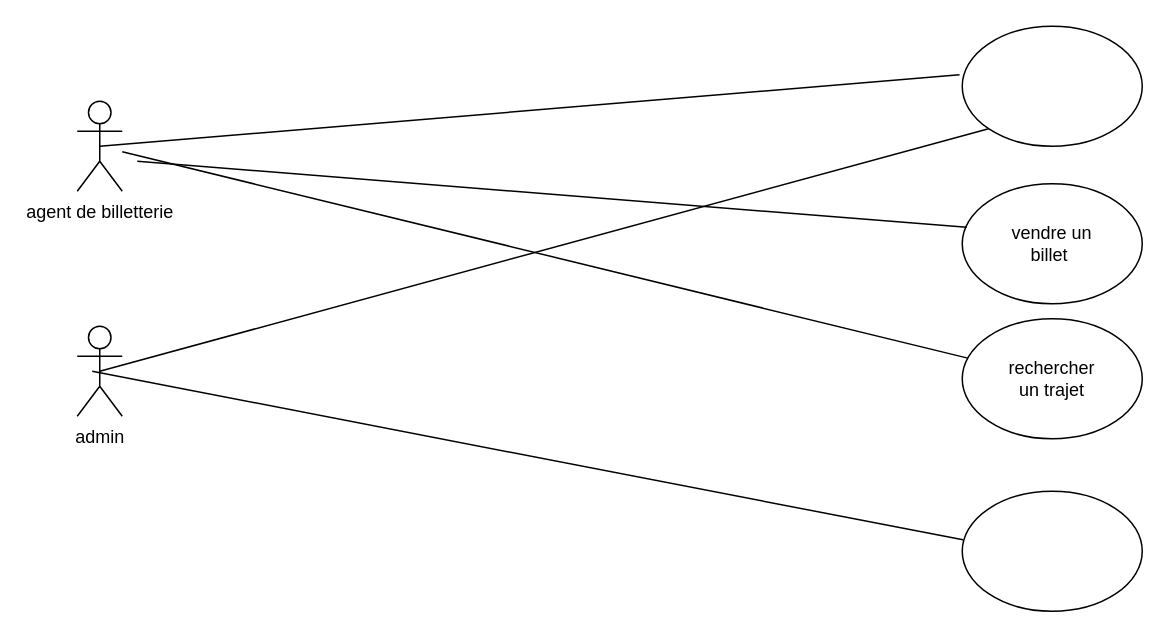
This 1169x638 diagram has some shape labels left out. Here are the shapes that lost their labels. From the top down, the centre of each, then its label:
At point 1051,85: "rechercher un billet".
At point 1051,550: "voir statistiques financière".
